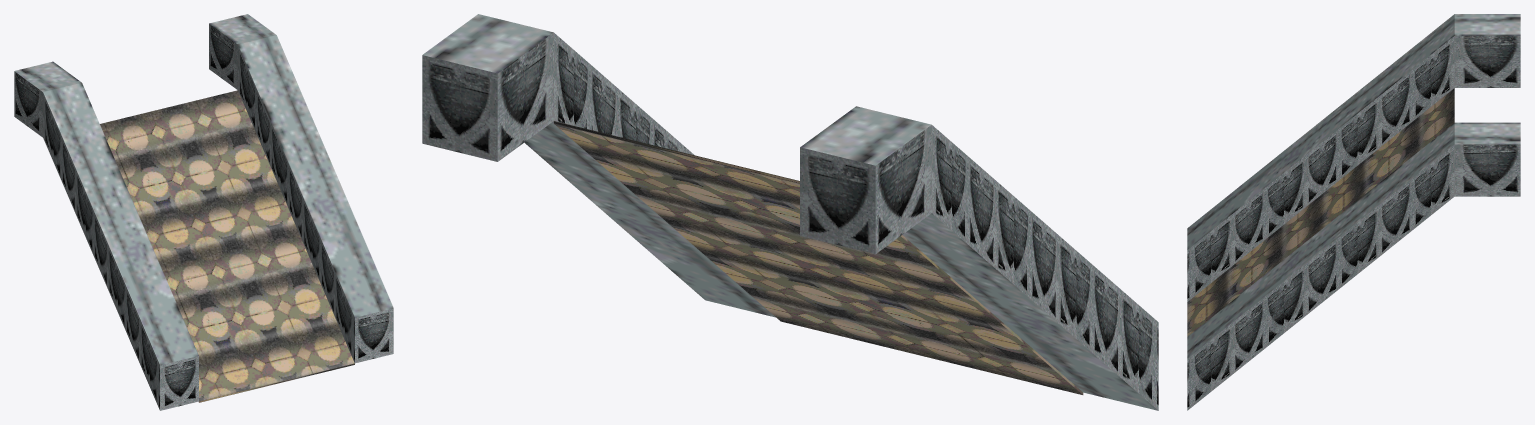
The model's file is Stairs01.obj.
3 views of the same model, side by side, from view 1: azimuth 30°, elevation 25°; view 2: azimuth 150°, elevation 25°; view 3: azimuth 270°, elevation 25° (orthographic). The views are drawn at different scales.
Visible parts, largest first — view 1: Stais01_Cube.002; view 2: Stais01_Cube.002; view 3: Stais01_Cube.002.
Boxes of the visible parts, left/top/right/bottom form: Stais01_Cube.002: left=14, top=14, right=393, bottom=410; Stais01_Cube.002: left=422, top=14, right=1158, bottom=410; Stais01_Cube.002: left=1187, top=14, right=1520, bottom=410.
Size of the model in its own units: 6 by 5.75 by 6.49.
